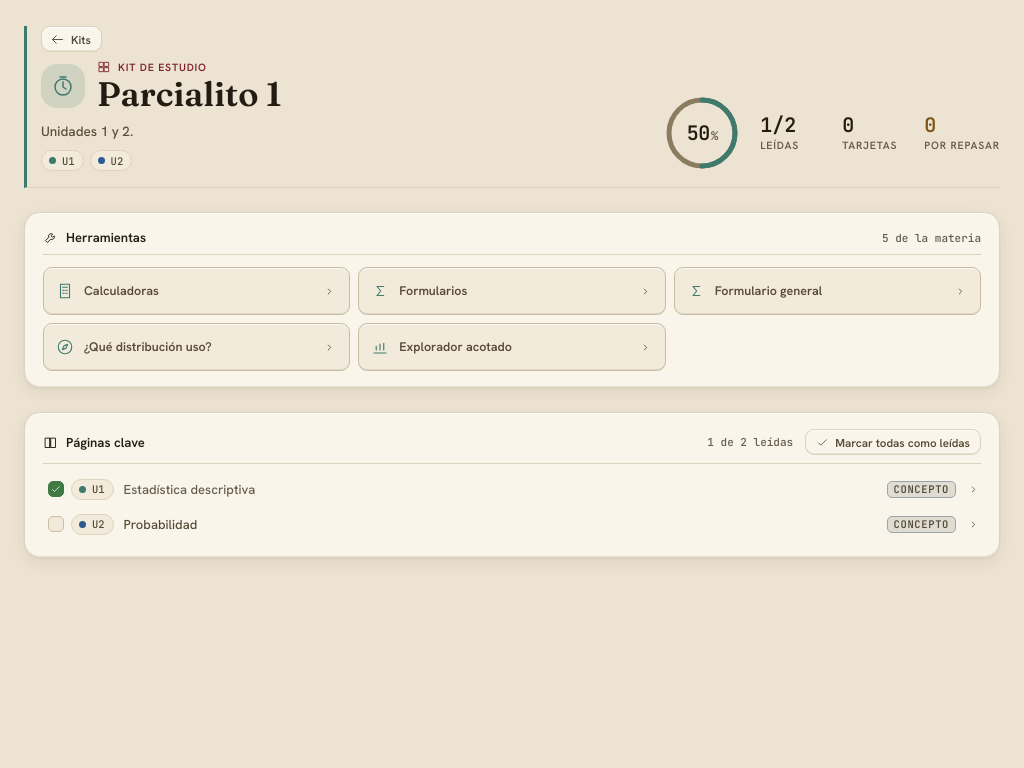
<KitView/> › «Marcar todas como leídas» marca lo que falta y después ofrece desmarcar
Click the button "Marcar todas como leídas" at [893, 442], box [805,429,981,455]
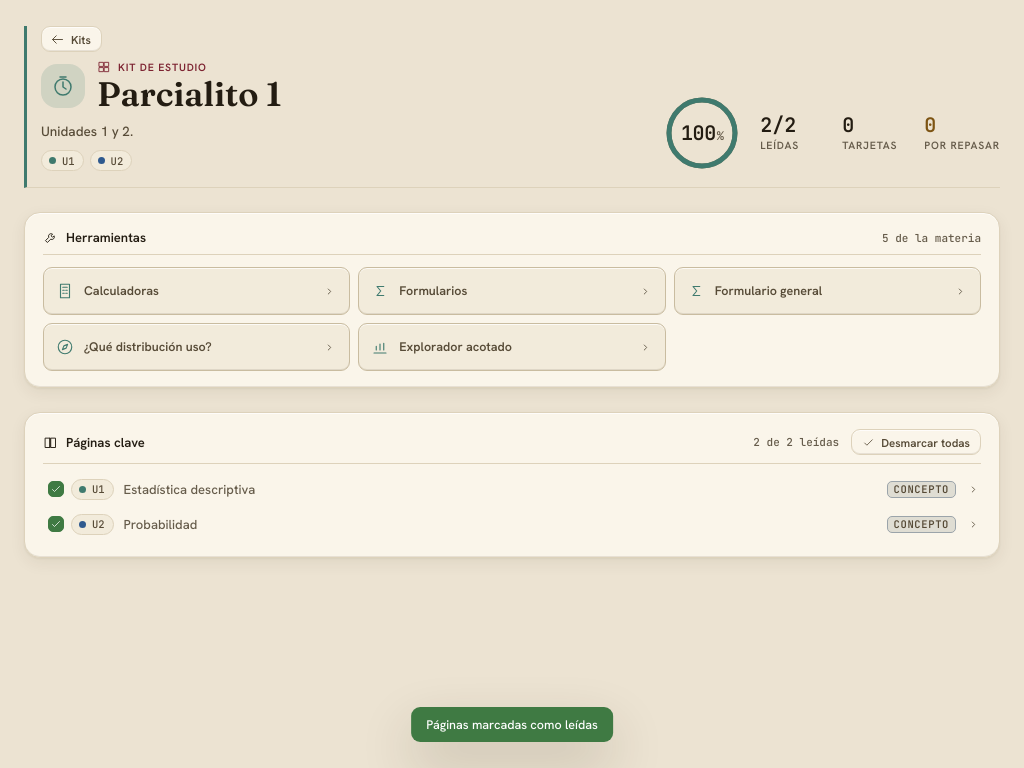
Check: the button "Desmarcar todas" is shown
Check: the text "Páginas marcadas como leídas" is shown, box [411,707,613,742]
Click the button "Desmarcar todas" at [916, 442], box [851,429,981,455]
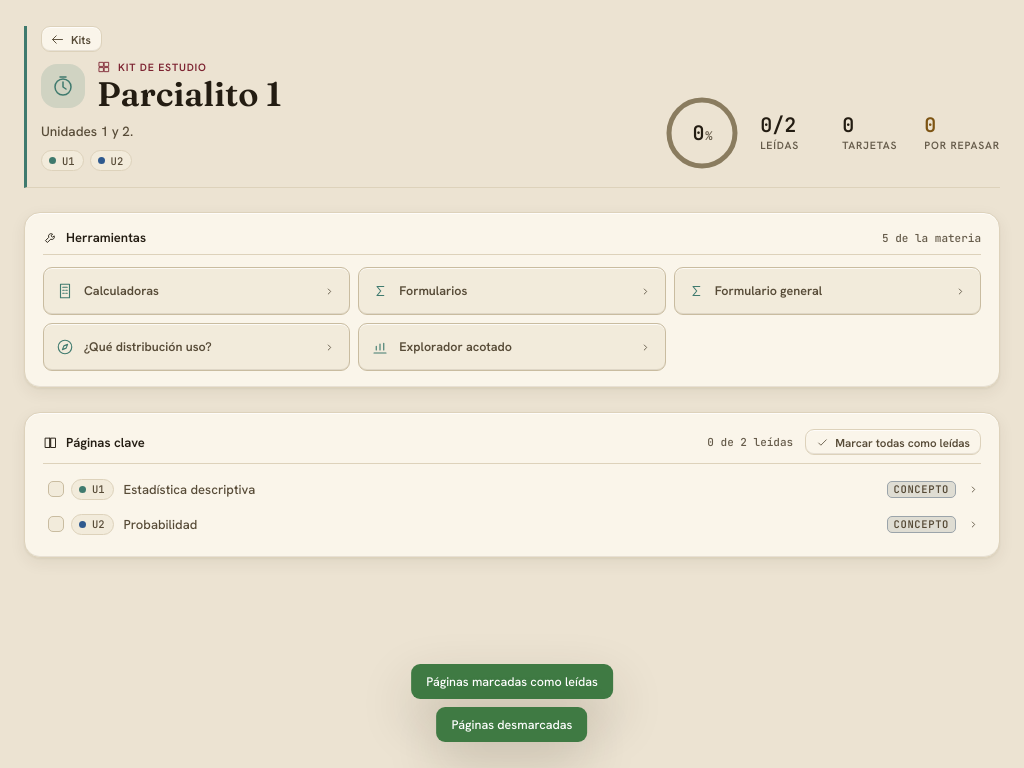
Check: the button "Marcar todas como leídas" is shown, box [805,429,981,455]
Check: the text "Páginas desmarcadas" is shown, box [436,707,587,742]
